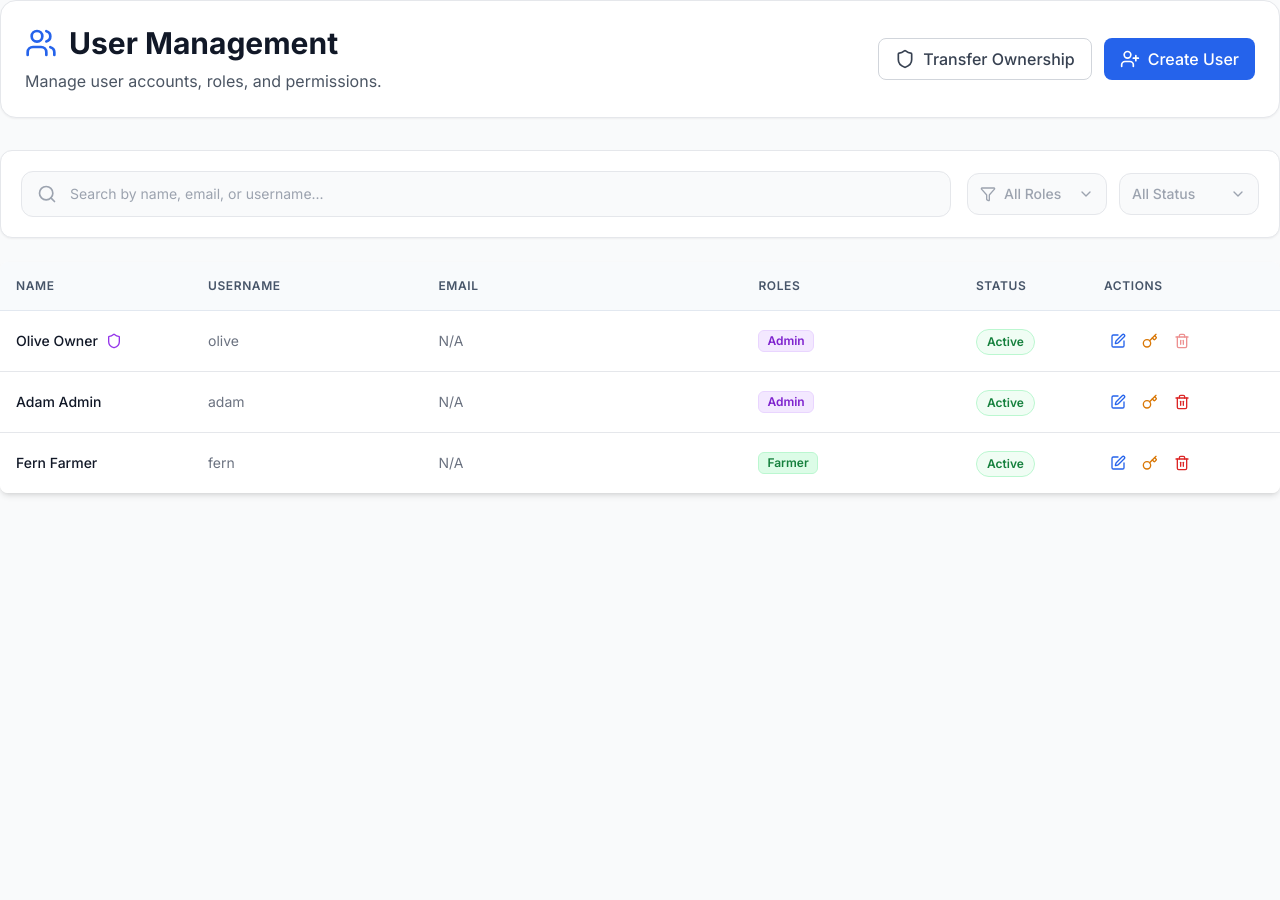
Scenario: User Management popups render on <body> › the transfer ownership popup
Expected: the text "Fern Farmer" is shown, [16, 453, 97, 473]
Click the button "Transfer Ownership" at (985, 59), box [878, 38, 1092, 80]
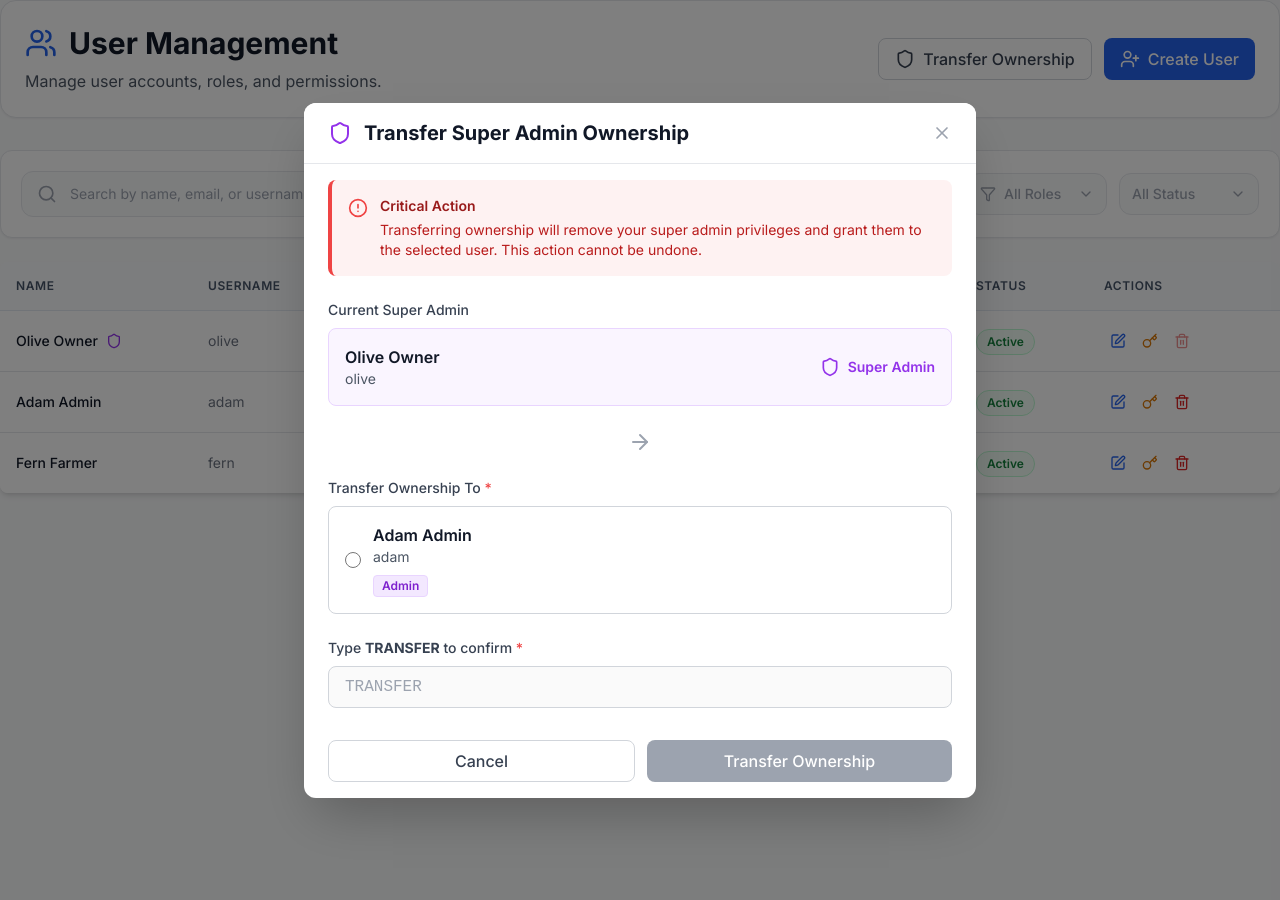
Expected: the text "Adam Admin" is shown, [373, 524, 472, 544]
Expected: the text "Transfer Super Admin Ownership" is shown, [364, 118, 689, 146]
